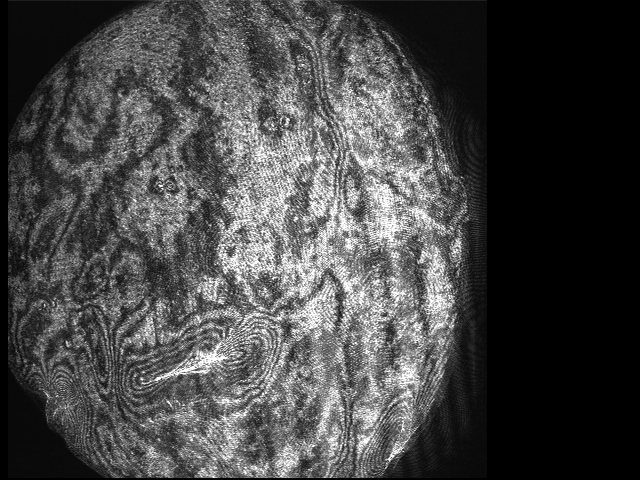plume: (114, 315, 279, 405)
